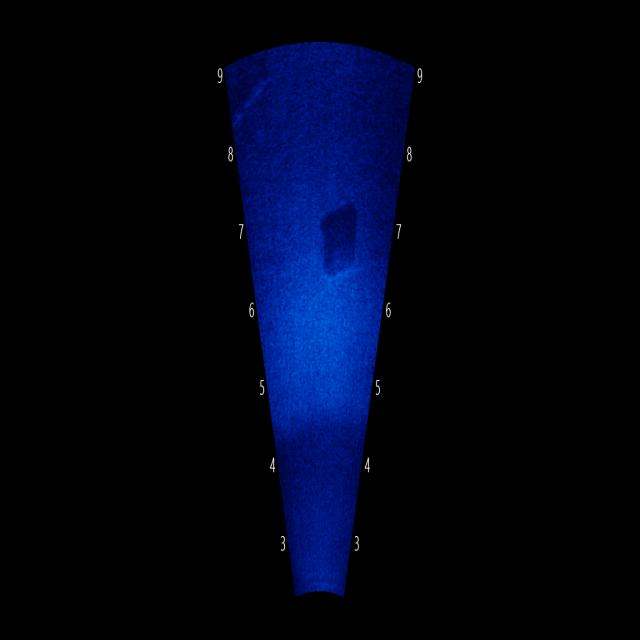square: (306, 186, 368, 308)
